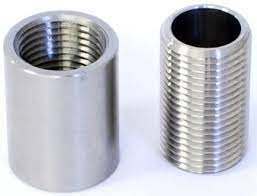No thread: (167, 6, 250, 49)
Thread: (10, 15, 116, 80)
